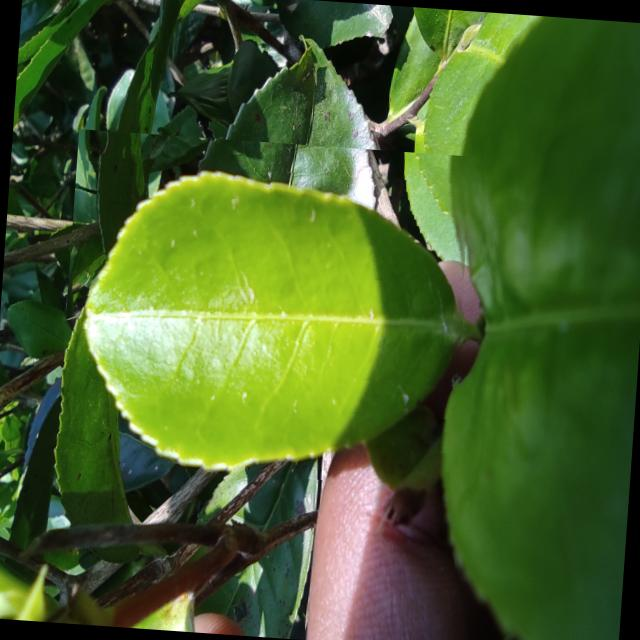Category C 4-7 days: (54, 128, 479, 507)
